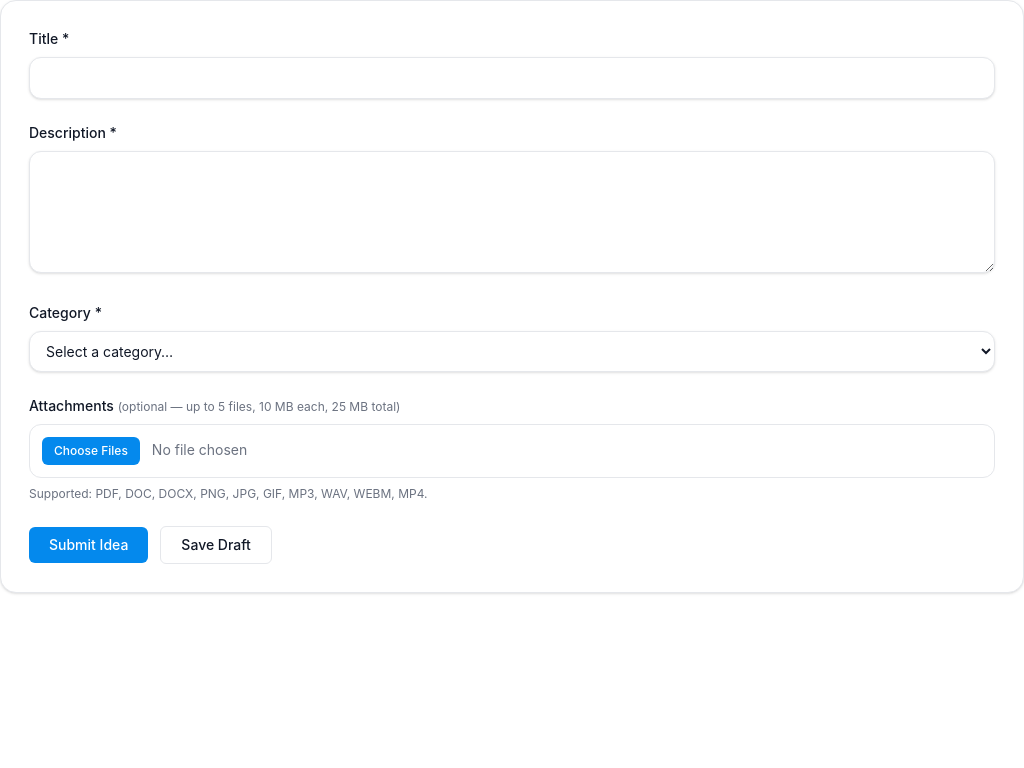
Test: IdeaForm — Save Draft › shows success feedback after draft is saved
This screenshot has width=1024, height=768.
Click the button "Save Draft" at (216, 545), box [160,526,272,564]
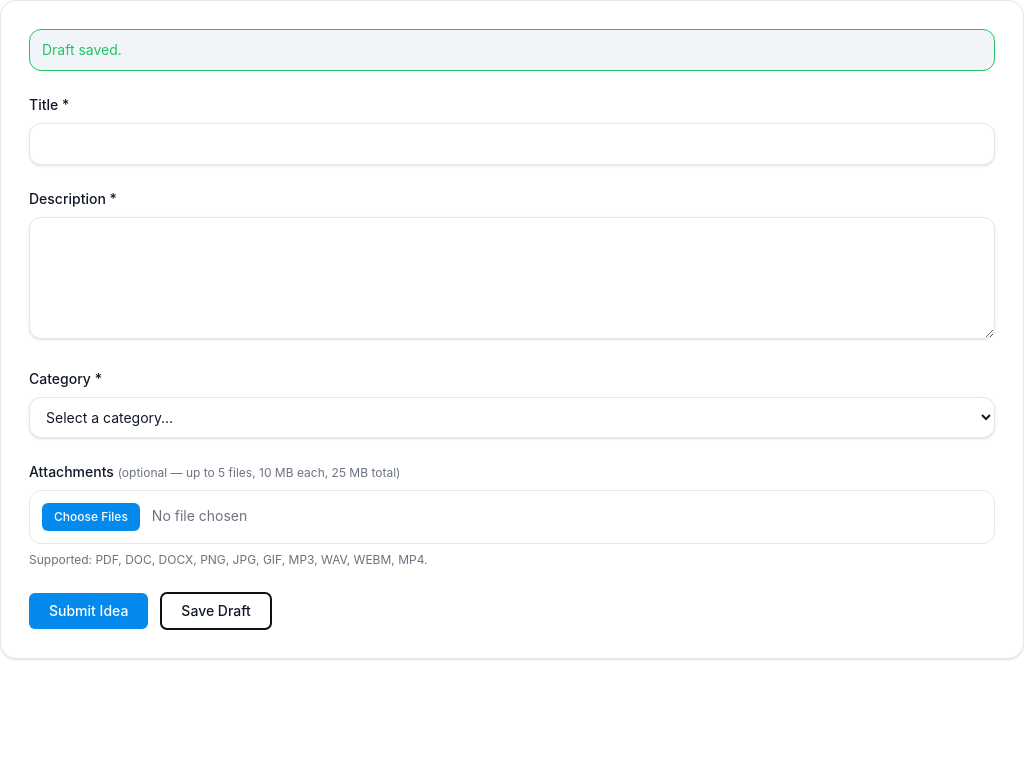
Now the text "Draft saved." is shown, box [29,29,995,71]
